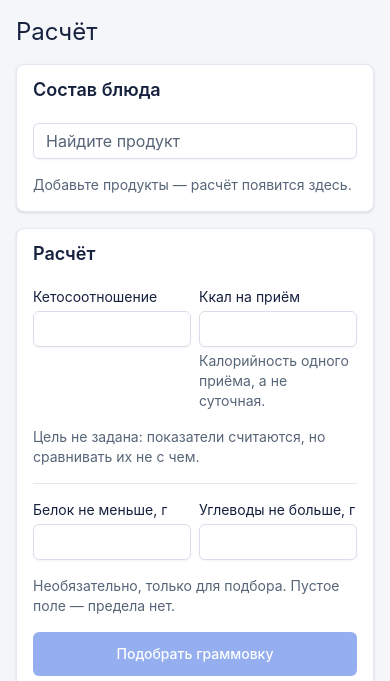
Test: калькулятор в Mini App › без назначения цель не выдумывается, и вердикта нет
Type "масло" into the search field labelled "Найдите продукт".
click(195, 141); type("масло")  # box [33,123,357,159]
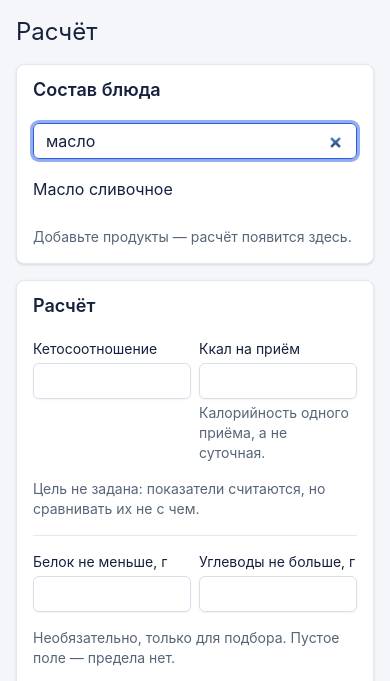
Click the button "Масло сливочное".
click(103, 189)  # box [33,167,357,211]
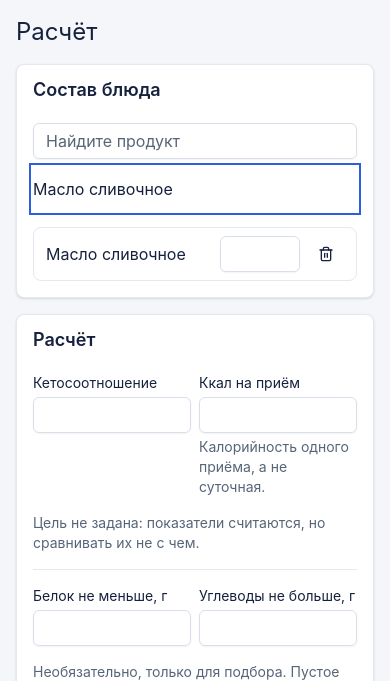
Type "30" into the field named "Масло сливочное, граммы".
click(260, 254); type("30")  # box [220,236,300,272]
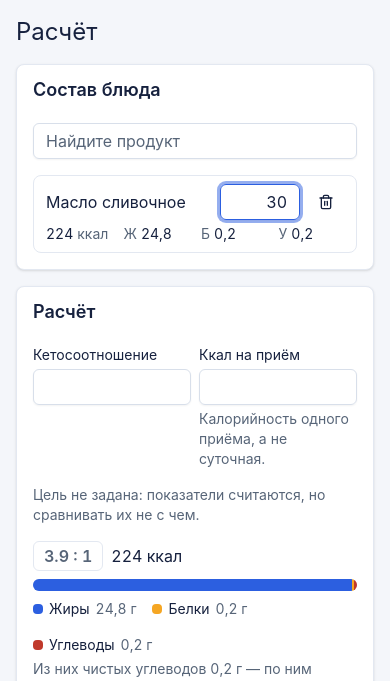
Expected: the field labelled "Кетосоотношение" is empty, [33,369,191,405]
Expected: the text "224 ккал" is shown, [111,544,182,568]
